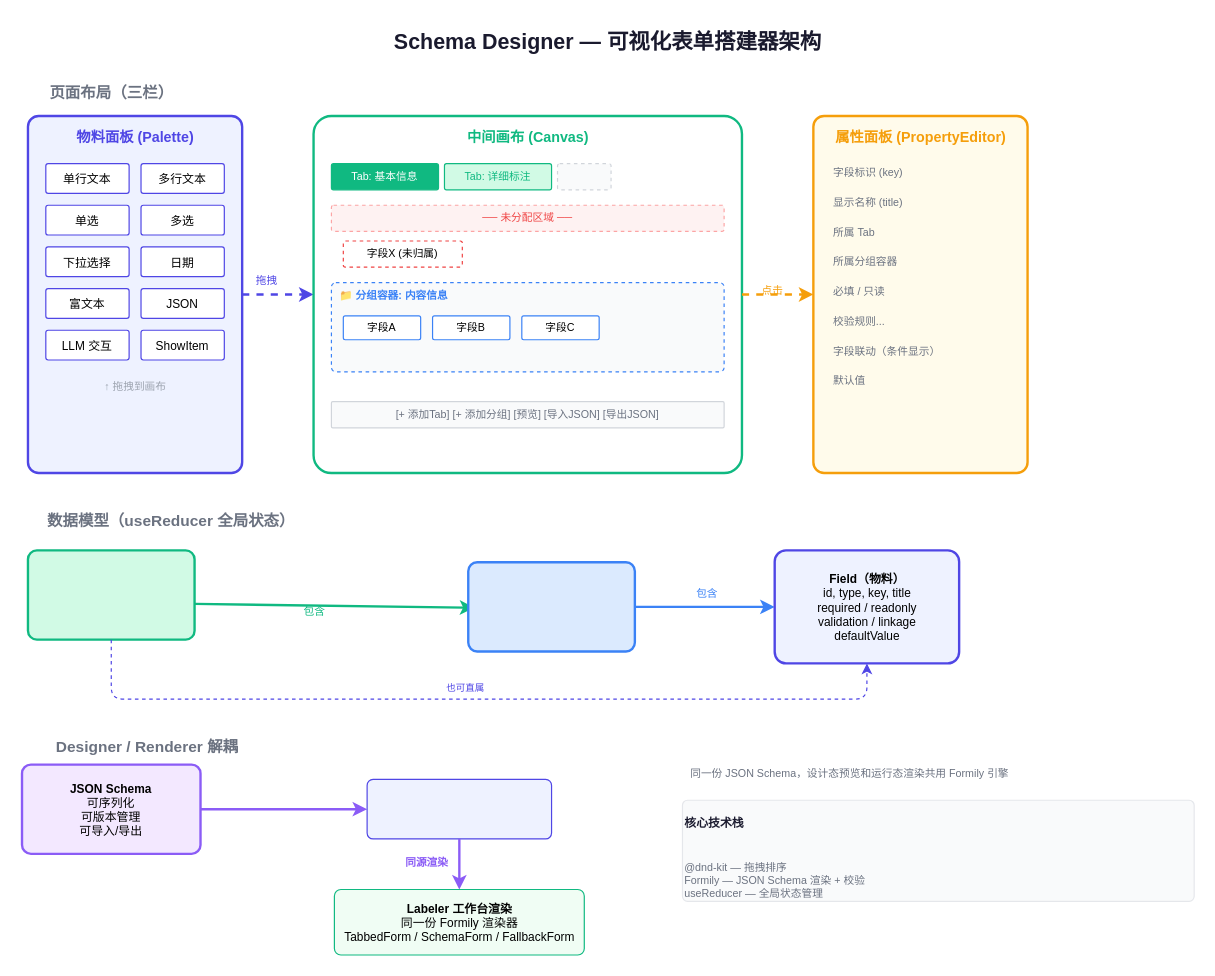
Image size: 1215x976. Some labels were removed from this diagram. Here are the shapes that lost their labels. From the top down, the centre of each, then its label:
At (583,176): "+ Tab".
At (110,594): "Tab id, title fieldIds[] groupIds[]".
At (550,606): "Group（容器） id, title fieldIds[]".
At (459,808): "SchemaDesigner 预览 Formily 渲染".
